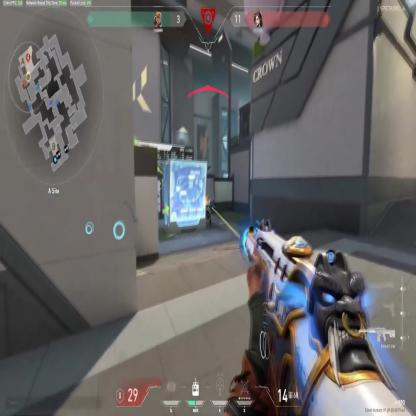enemy: (202, 196, 212, 228)
enemy_head: (206, 196, 209, 202)
